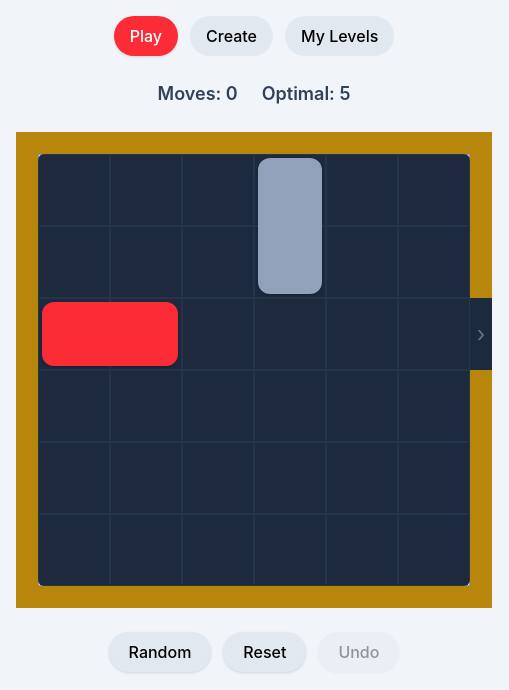
Test: App › switches to the create view
Click the button "Create": coordinates (232, 36) [190, 16, 273, 56]
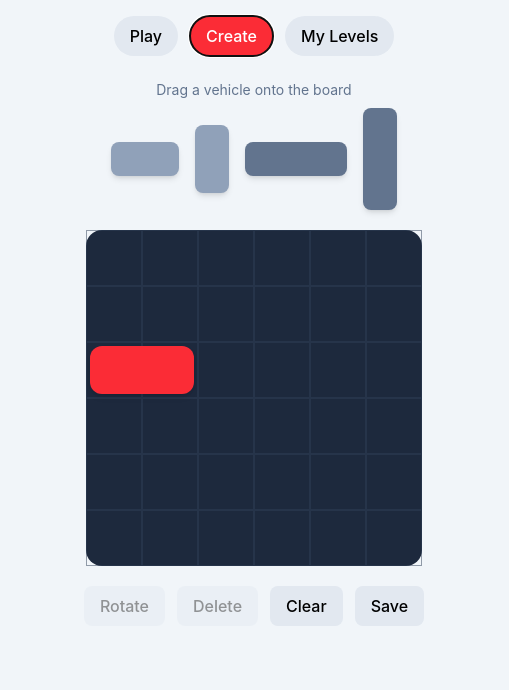
Expected: the element with test id "bank-car-h" is shown, [111, 142, 179, 176]
Expected: the element with test id "bank-truck-v" is shown, [363, 108, 397, 210]
